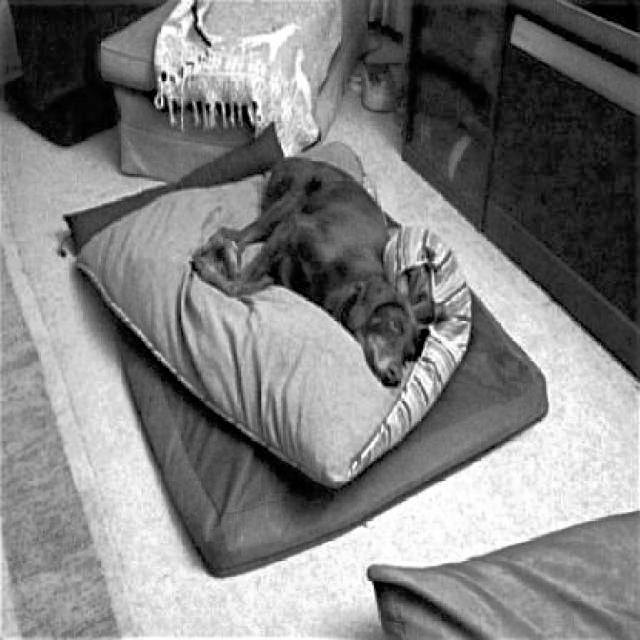Dog: (188, 150, 419, 393)
